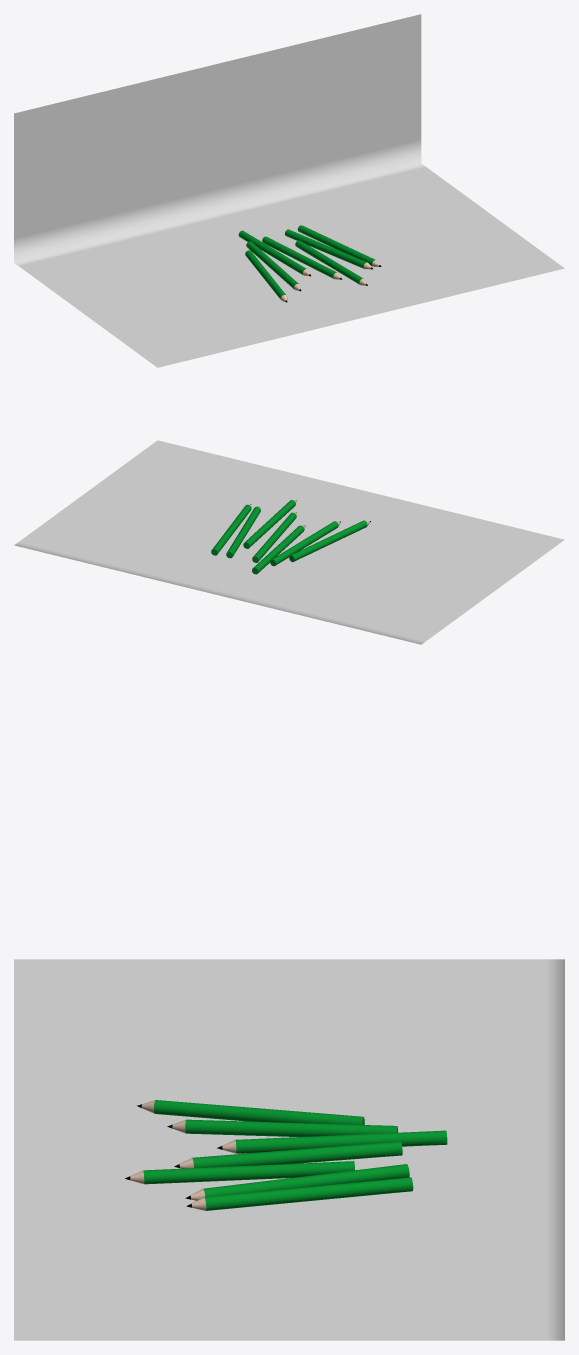
The model's file is projetFormation.gltf.
3 renders of one model, top to bottom at view 1: azimuth 30°, elevation 25°; view 2: azimuth 150°, elevation 25°; view 3: azimuth 270°, elevation 25°, orthographic. The views are drawn at different scales.
Parts seen in each view (by area): view 1: Plane, c7, c5, c4, c6, c1, c2, c3; view 2: Plane, c3, c2, c6, c1, c5, c4, c7; view 3: Plane, c4, c6, c5, c2, c3, c1, c7.
Boxes of the visible parts, bbox=[...] form: Plane: bbox=[14, 14, 564, 367]; c7: bbox=[285, 229, 372, 269]; c5: bbox=[262, 236, 342, 279]; c4: bbox=[297, 225, 381, 266]; c6: bbox=[295, 240, 367, 285]; c1: bbox=[238, 230, 310, 276]; c2: bbox=[246, 241, 301, 291]; c3: bbox=[245, 250, 287, 302]; Plane: bbox=[14, 440, 564, 644]; c3: bbox=[289, 520, 370, 562]; c2: bbox=[270, 521, 340, 566]; c6: bbox=[243, 500, 296, 548]; c1: bbox=[252, 525, 305, 574]; c5: bbox=[252, 512, 296, 562]; c4: bbox=[211, 504, 251, 555]; c7: bbox=[226, 506, 260, 558]; Plane: bbox=[14, 959, 564, 1340]; c4: bbox=[186, 1177, 413, 1210]; c6: bbox=[125, 1161, 354, 1184]; c5: bbox=[174, 1141, 402, 1168]; c2: bbox=[167, 1119, 397, 1136]; c3: bbox=[137, 1100, 364, 1124]; c1: bbox=[217, 1130, 447, 1153]; c7: bbox=[185, 1164, 409, 1200].
Bounding box in the file's own units: 19.03 × 6.69 × 11.62.
